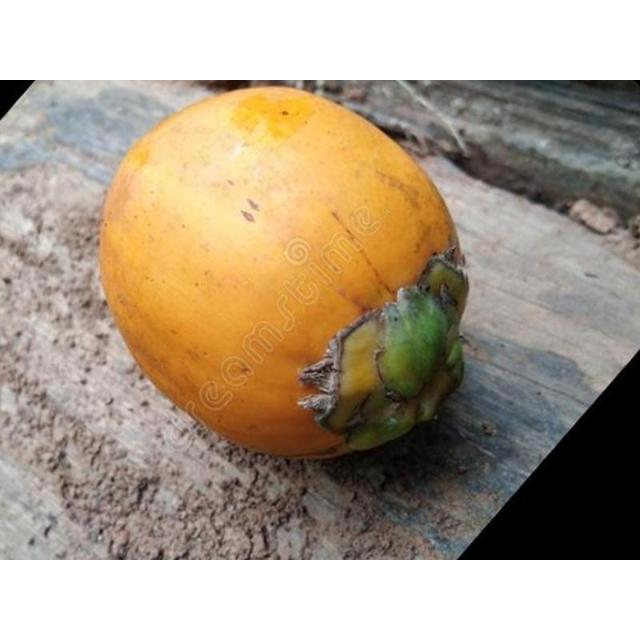good: (97, 86, 470, 462)
